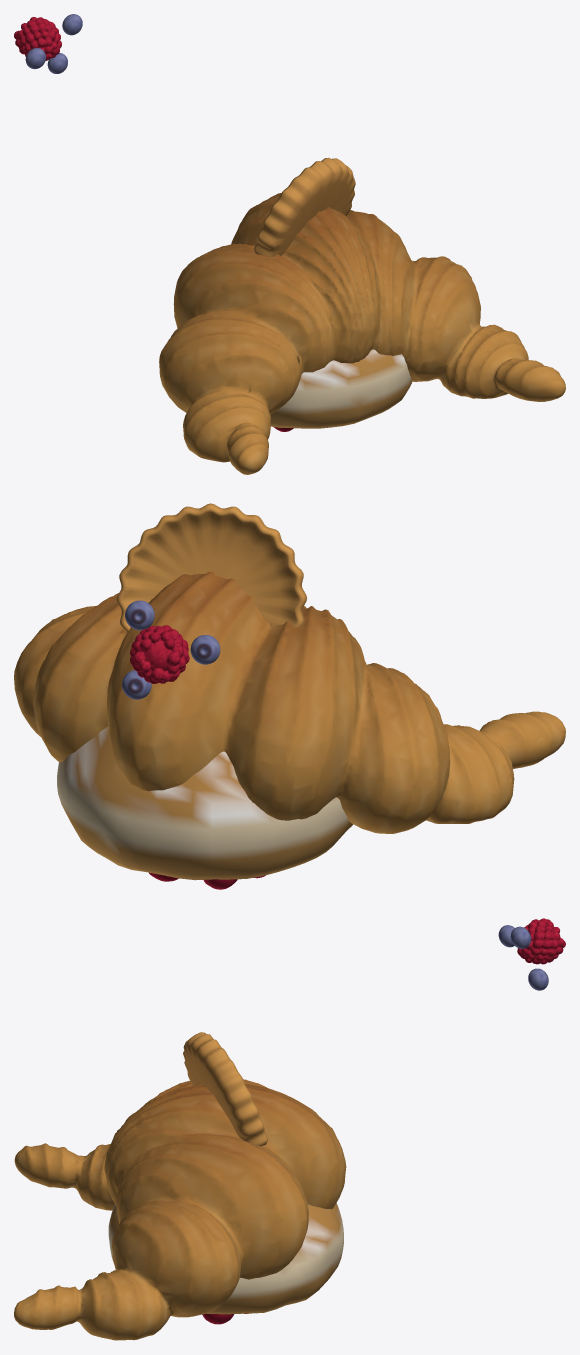
The model's file is pastries.opt.glb.
3 renders of one model, top to bottom at view 1: azimuth 30°, elevation 25°; view 2: azimuth 150°, elevation 25°; view 3: azimuth 270°, elevation 25°, orthographic. The views are drawn at different scales.
Parts seen in each view (by area): view 1: Croissant, bun, shell.001, Raspberry.002; view 2: Croissant, bun, shell.001, Raspberry.002, Blueberry (×3); view 3: Croissant, bun, shell.001, Raspberry.002.
Boxes of the visible parts, box(x1,y1,x2,y2) form: Croissant: box(159, 193, 565, 474); bun: box(270, 349, 412, 428); shell.001: box(254, 157, 355, 256); Raspberry.002: box(14, 17, 61, 60); Croissant: box(14, 571, 565, 833); bun: box(57, 726, 352, 880); shell.001: box(116, 503, 306, 632); Raspberry.002: box(130, 625, 189, 683); Blueberry (×3): box(122, 600, 220, 699); Croissant: box(14, 1079, 346, 1340); bun: box(108, 1203, 343, 1314); shell.001: box(183, 1032, 267, 1146); Raspberry.002: box(517, 918, 565, 964).
Size of what is drawn, in the model's own units: 2.41 by 2.22 by 3.36.
